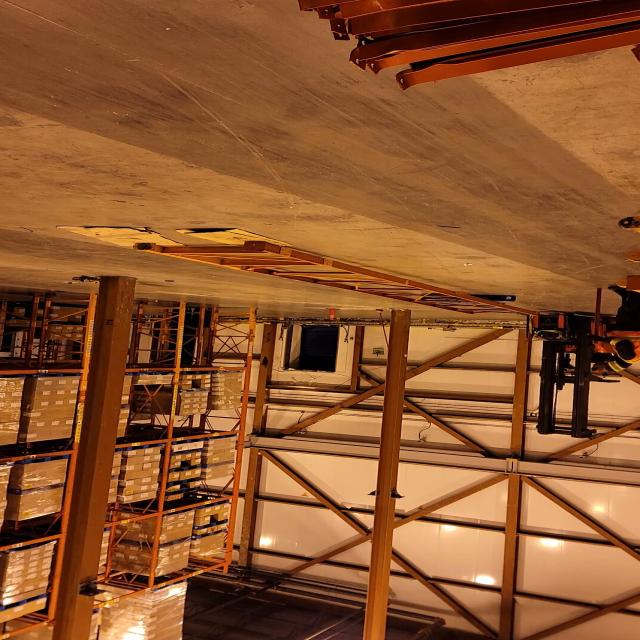forklift: (513, 310, 623, 436)
human: (601, 286, 640, 374), (575, 352, 616, 378)
objectofinterest: (133, 238, 543, 318), (55, 224, 190, 256), (168, 227, 296, 251), (473, 290, 519, 306)
